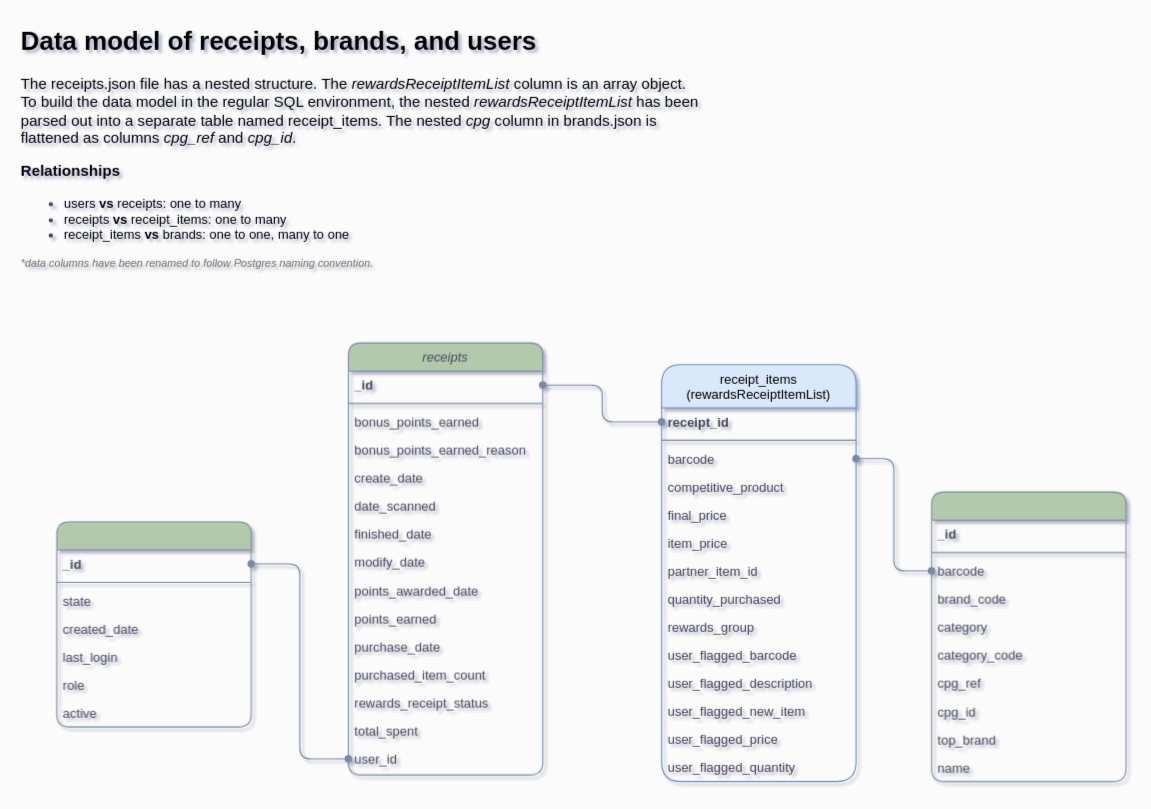
The diagram is 1151 pixels wide and 809 high, and some of its shapes have lost their labels. Each missing label, with the box of its shape:
brands: (930, 491, 1126, 781)
users: (56, 521, 251, 727)
